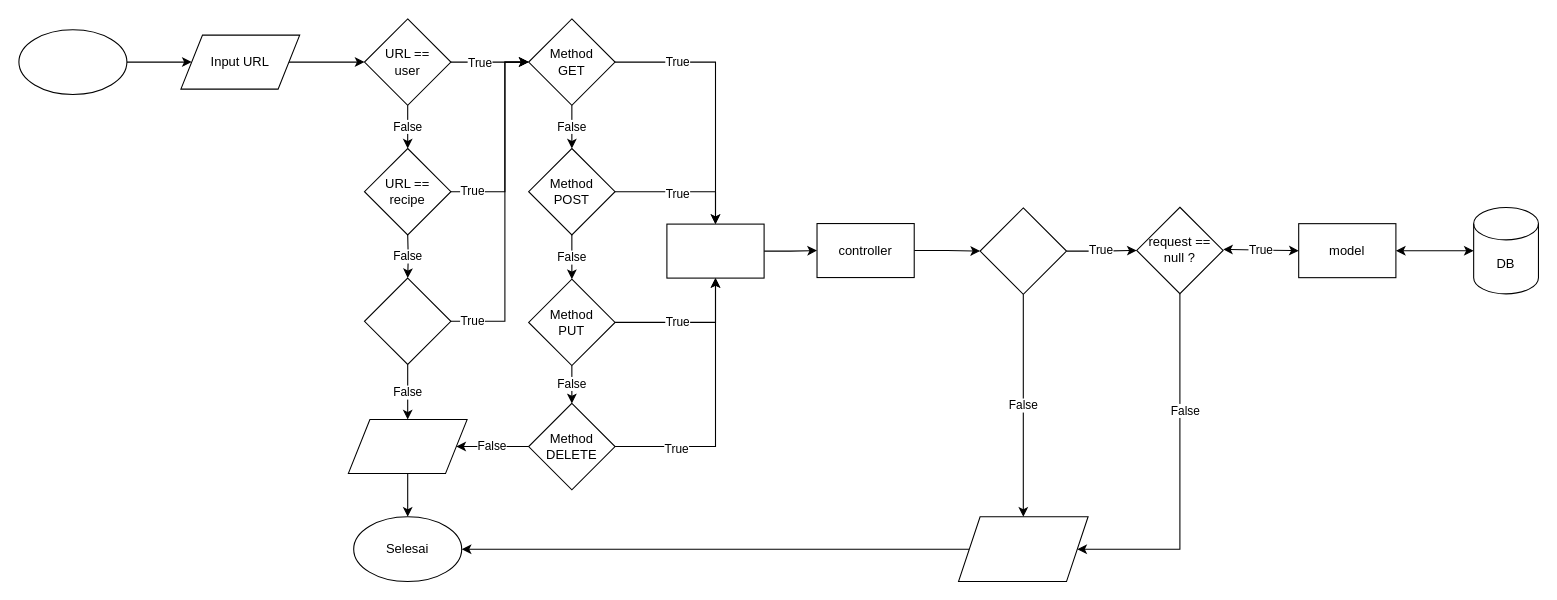
Image size: 1557x600. Some labels were removed from this diagram. The shapes that lost their labels are listed below. From the top down, each one's centre as x and y in pixels, then its label:
[72,61]: Mulai
[715,250]: route
[1022,250]: Jika data benar
[407,320]: URL == comment
[407,446]: Output "Path not found"
[1022,549]: Output Response
